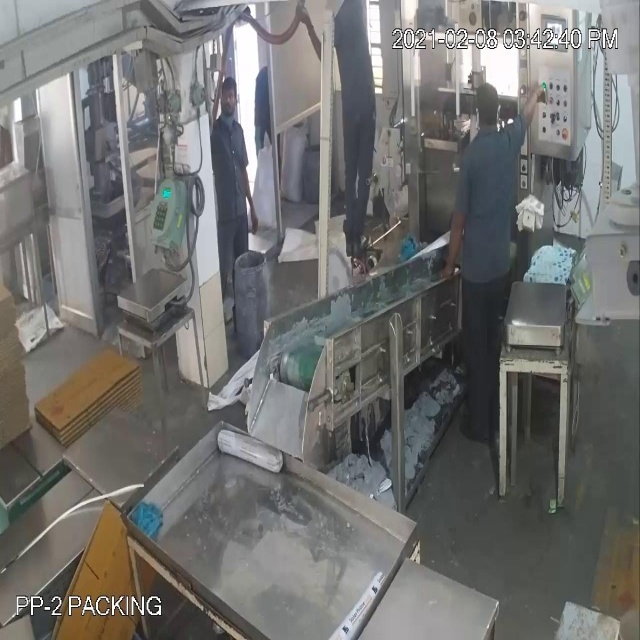Sin_guantes: (435, 196, 475, 287), (516, 87, 553, 143)
